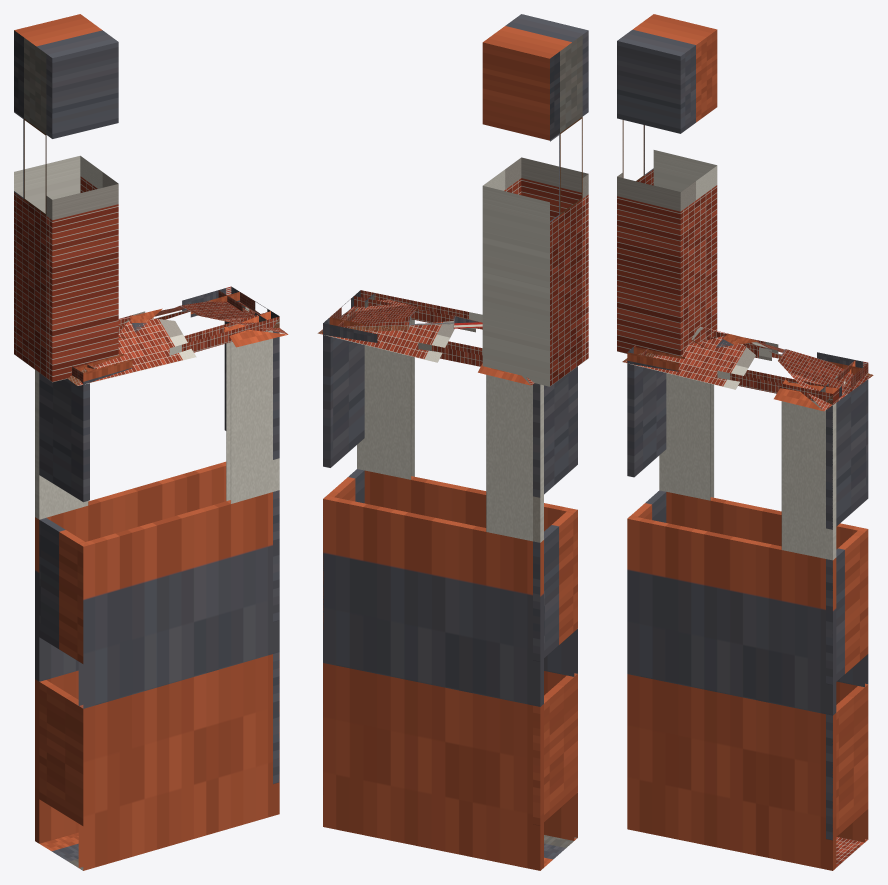
3 views of the same model, side by side, from view 1: azimuth 30°, elevation 25°; view 2: azimuth 150°, elevation 25°; view 3: azimuth 330°, elevation 25° (orthographic). The views are drawn at different scales.
Parts seen in each view (by area): view 1: 401644632__wall_1_xb, 401644632__chimney_0_xb, 401644632__wall_0_xb, 401644632__wall_3_xb, 401644632_roof_front_xb, 401644632__wall_2_xb, 401644632__cornice_1, 401644632_roof_right_xb, 401644632__cornice_3, 401644632__base, 401644632__cornice_2; view 2: 401644632__wall_3_xb, 401644632__chimney_0_xb, 401644632__wall_0_xb, 401644632__wall_1_xb, 401644632__wall_2_xb, 401644632_roof_back_xb, 401644632_roof_right_xb, 401644632__cornice_3, 401644632__cornice_1; view 3: 401644632__wall_1_xb, 401644632__chimney_0_xb, 401644632__wall_2_xb, 401644632__wall_3_xb, 401644632__wall_0_xb, 401644632_roof_front_xb, 401644632__cornice_1, 401644632_roof_right_xb, 401644632__cornice_3.
Part boxes in pixels (<box>): 401644632__wall_1_xb: <box>78,330,279,870</box>; 401644632__chimney_0_xb: <box>14,14,118,382</box>; 401644632__wall_0_xb: <box>39,373,89,825</box>; 401644632__wall_3_xb: <box>35,370,226,843</box>; 401644632_roof_front_xb: <box>78,318,287,385</box>; 401644632__wall_2_xb: <box>224,321,279,783</box>; 401644632__cornice_1: <box>75,311,279,384</box>; 401644632_roof_right_xb: <box>118,301,288,334</box>; 401644632__cornice_3: <box>118,286,239,333</box>; 401644632__base: <box>40,832,83,870</box>; 401644632__cornice_2: <box>218,286,279,327</box>; 401644632__wall_3_xb: <box>323,375,543,870</box>; 401644632__chimney_0_xb: <box>482,14,588,386</box>; 401644632__wall_0_xb: <box>533,366,577,825</box>; 401644632__wall_1_xb: <box>357,319,577,840</box>; 401644632__wall_2_xb: <box>323,335,364,794</box>; 401644632_roof_back_xb: <box>317,321,530,385</box>; 401644632_roof_right_xb: <box>318,299,482,333</box>; 401644632__cornice_3: <box>323,317,482,366</box>; 401644632__cornice_1: <box>354,290,482,332</box>; 401644632__wall_1_xb: <box>627,401,836,870</box>; 401644632__chimney_0_xb: <box>617,14,717,356</box>; 401644632__wall_2_xb: <box>826,379,868,840</box>; 401644632__wall_3_xb: <box>659,373,868,842</box>; 401644632__wall_0_xb: <box>627,363,666,522</box>; 401644632_roof_front_xb: <box>622,335,823,411</box>; 401644632__cornice_1: <box>627,347,839,404</box>; 401644632_roof_right_xb: <box>705,328,873,411</box>; 401644632__cornice_3: <box>706,331,862,374</box>.
Bounding box in the file's own units: 0.5114 × 1.75 × 0.2032.
1 material, 1 textured.
